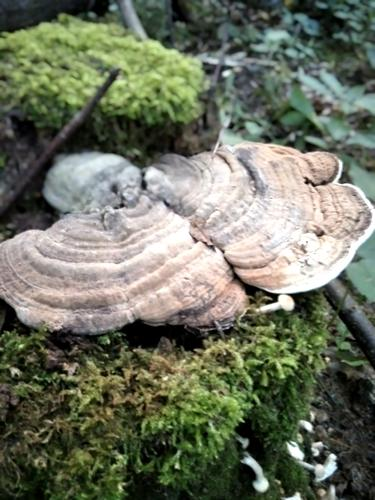Ganoderma - Fruit Body: (0, 150, 375, 337)
